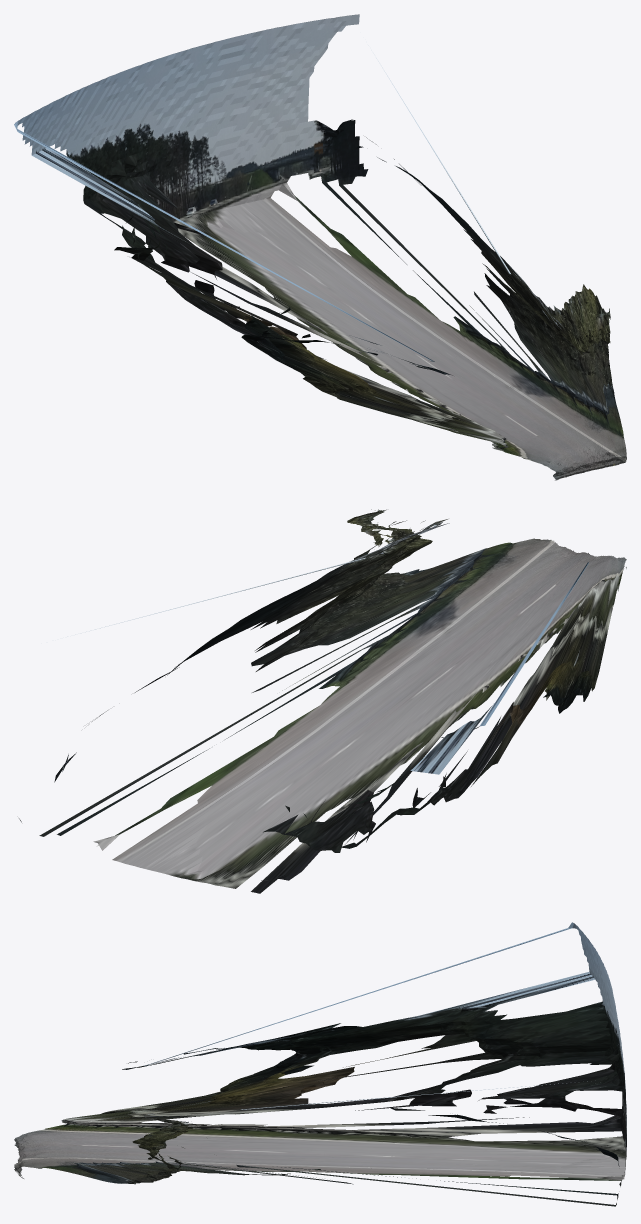
3 views of the same model, one above another, from view 1: azimuth 30°, elevation 25°; view 2: azimuth 150°, elevation 25°; view 3: azimuth 270°, elevation 25° (orthographic). The views are drawn at different scales.
Visible parts, largest first — view 1: defaultobject; view 2: defaultobject; view 3: defaultobject.
Boxes of the visible parts, bbox=[...] form: defaultobject: bbox=[14, 14, 626, 480]; defaultobject: bbox=[19, 509, 626, 893]; defaultobject: bbox=[14, 922, 626, 1206].
Bounding box in the file's own units: 26.47 × 12.04 × 44.29.
1 material, 1 textured.
